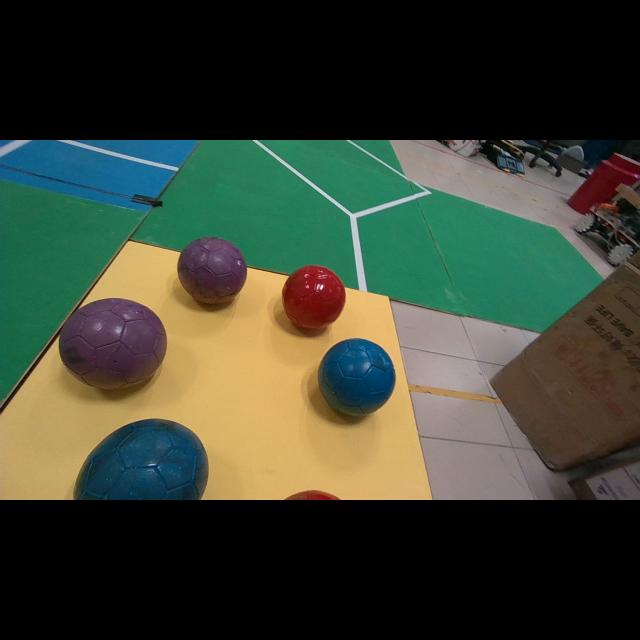B: (74, 419, 209, 500), (318, 339, 396, 416)
P: (60, 299, 166, 389), (178, 236, 248, 304)
R: (282, 265, 345, 329), (285, 490, 340, 499)
